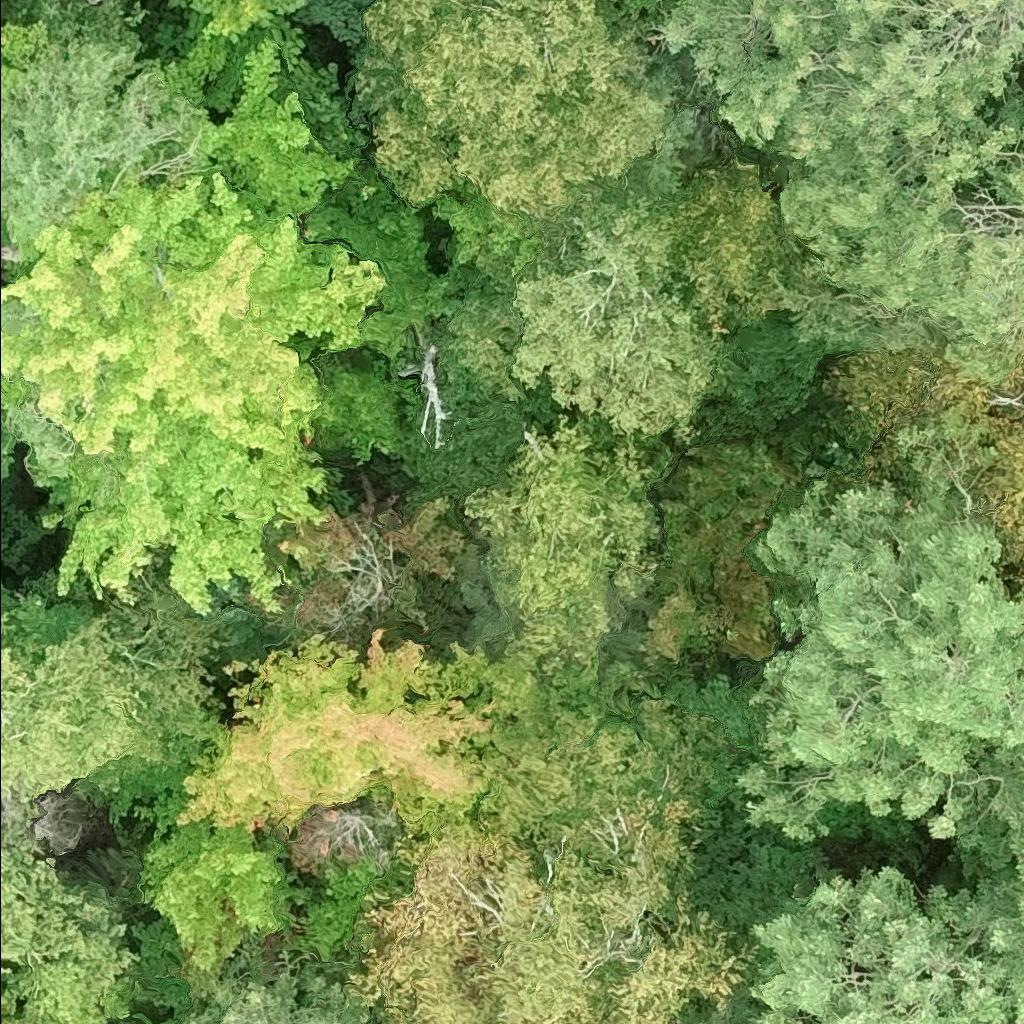crown: (0, 39, 453, 620), (740, 406, 1023, 841), (452, 172, 741, 487), (174, 625, 557, 842), (753, 98, 1023, 382), (347, 0, 675, 225), (481, 792, 759, 1023), (657, 0, 1023, 159), (0, 585, 219, 840), (462, 413, 672, 673), (749, 864, 1018, 1023), (354, 827, 561, 1023), (643, 155, 823, 342), (157, 0, 373, 151), (129, 791, 295, 978), (0, 829, 136, 1023), (932, 366, 1023, 586), (956, 751, 1023, 1023), (179, 953, 377, 1023), (0, 18, 44, 92), (690, 989, 763, 1023), (0, 981, 17, 1023), (1010, 1017, 1019, 1023)
